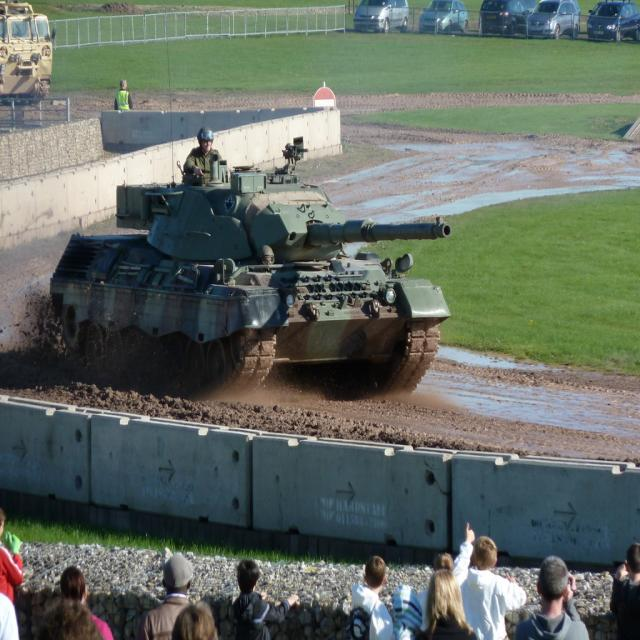tank: (47, 38, 452, 396)
